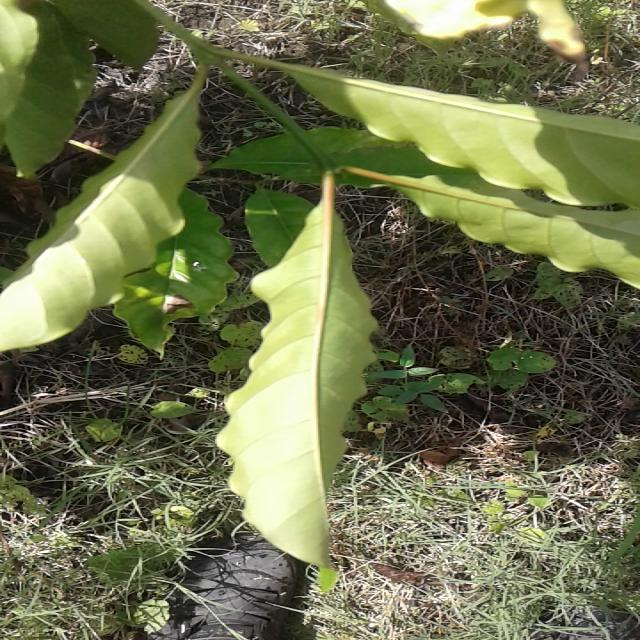Sanas: (215, 177, 378, 572)
